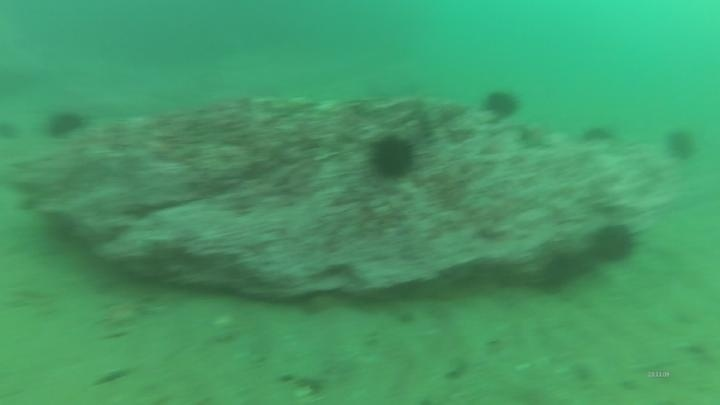echinus: (365, 131, 420, 183), (587, 220, 640, 268), (42, 106, 88, 142), (661, 125, 700, 165), (480, 86, 523, 122), (578, 121, 618, 148)
starfish: (514, 121, 554, 153)
